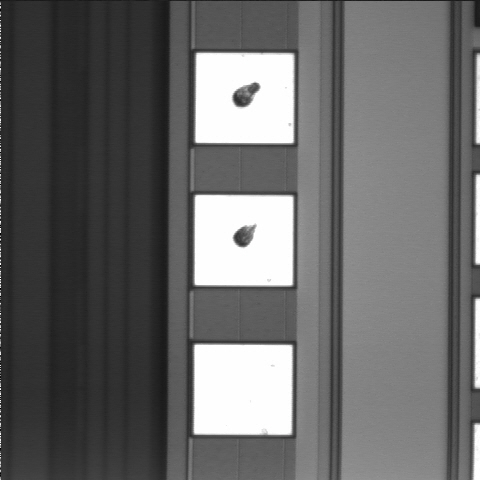pad: (195, 195, 293, 286), (195, 53, 294, 143), (194, 345, 292, 435)
